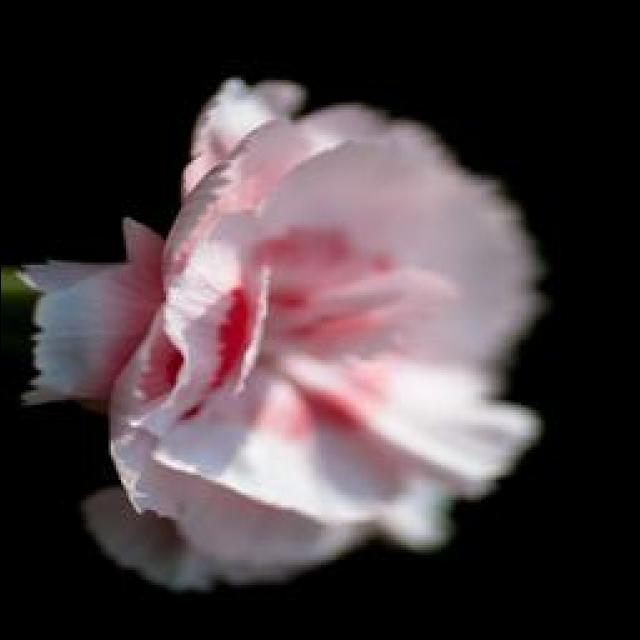carnation: (31, 68, 577, 634)
